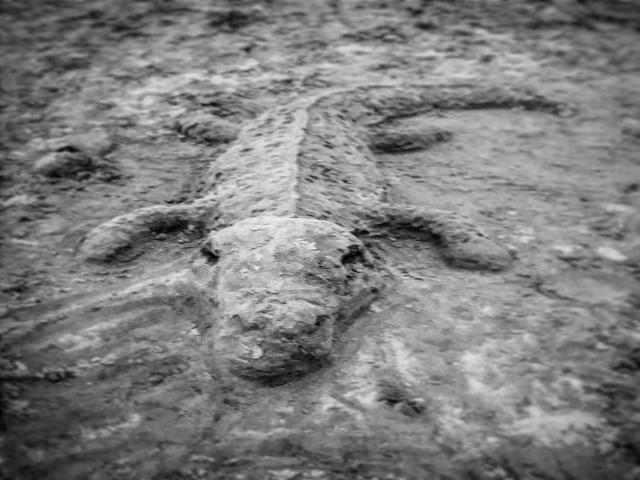crocodile: (52, 178, 499, 396)
